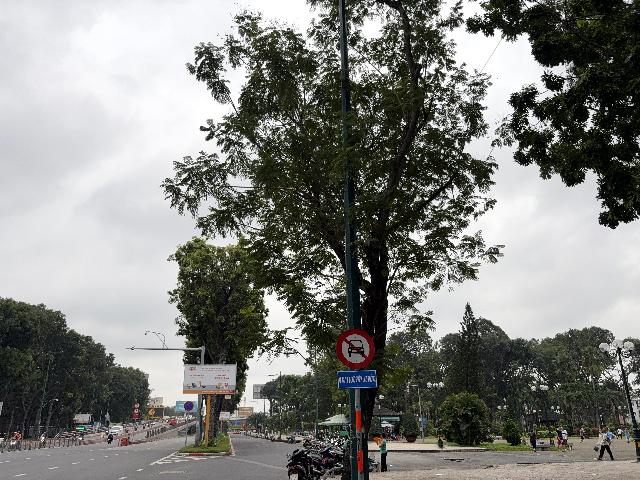cam-o-to: (336, 329, 375, 368)
